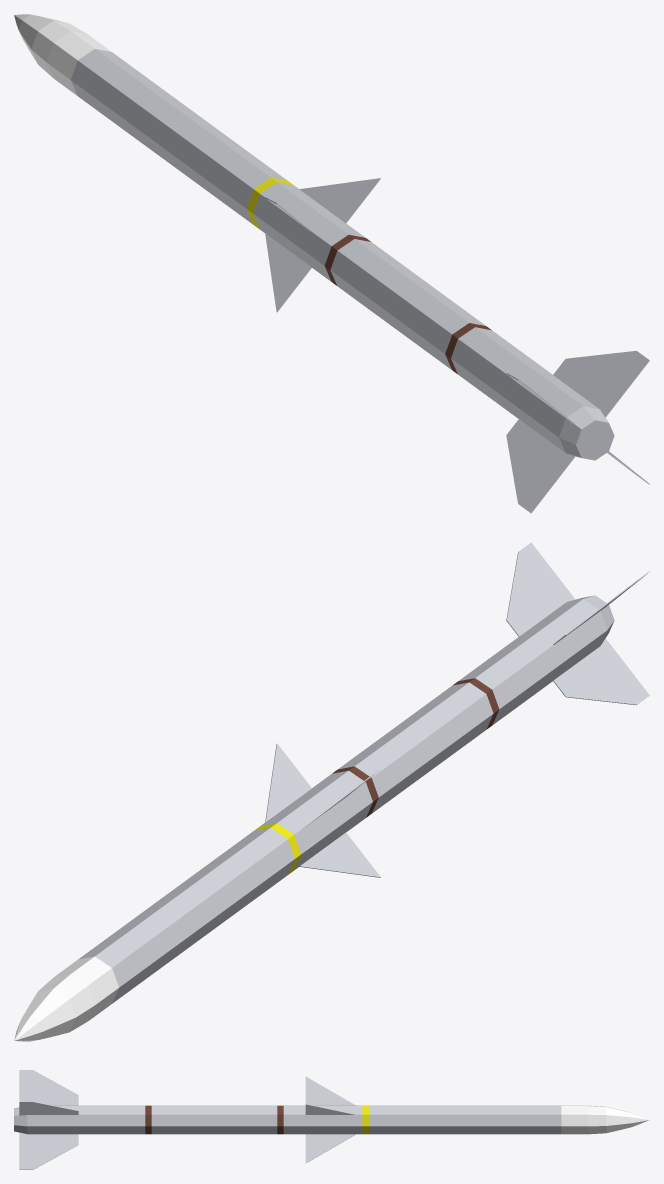
File: AIM-120.glb
3 renders of one model, top to bottom at view 1: azimuth 30°, elevation 25°; view 2: azimuth 150°, elevation 25°; view 3: azimuth 270°, elevation 25°, orthographic. The views are drawn at different scales.
Visible parts, largest first — view 1: Cylinder; view 2: Cylinder; view 3: Cylinder.
Boxes of the visible parts, left/top/right/bottom form: Cylinder: left=14, top=14, right=649, bottom=513; Cylinder: left=14, top=542, right=649, bottom=1041; Cylinder: left=14, top=1070, right=649, bottom=1169.
Size of the model in its own units: 0.4274 by 0.4274 by 3.61.
1 material, 1 textured.
